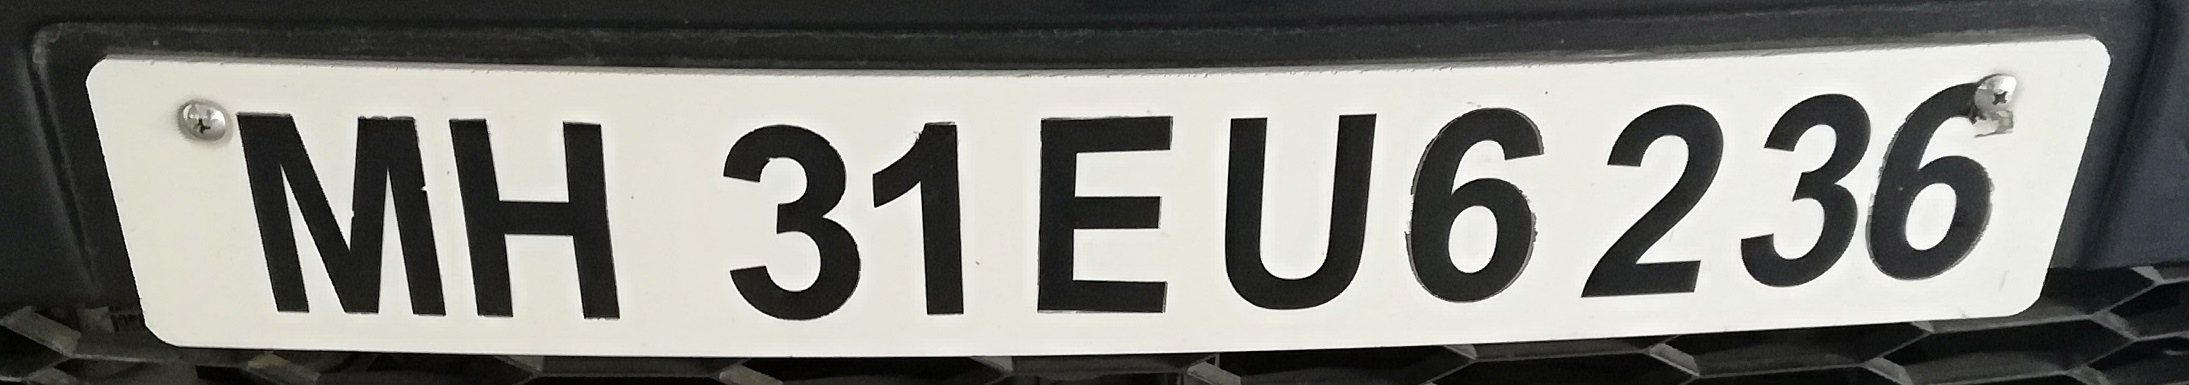numberplate: (66, 42, 2097, 349)
